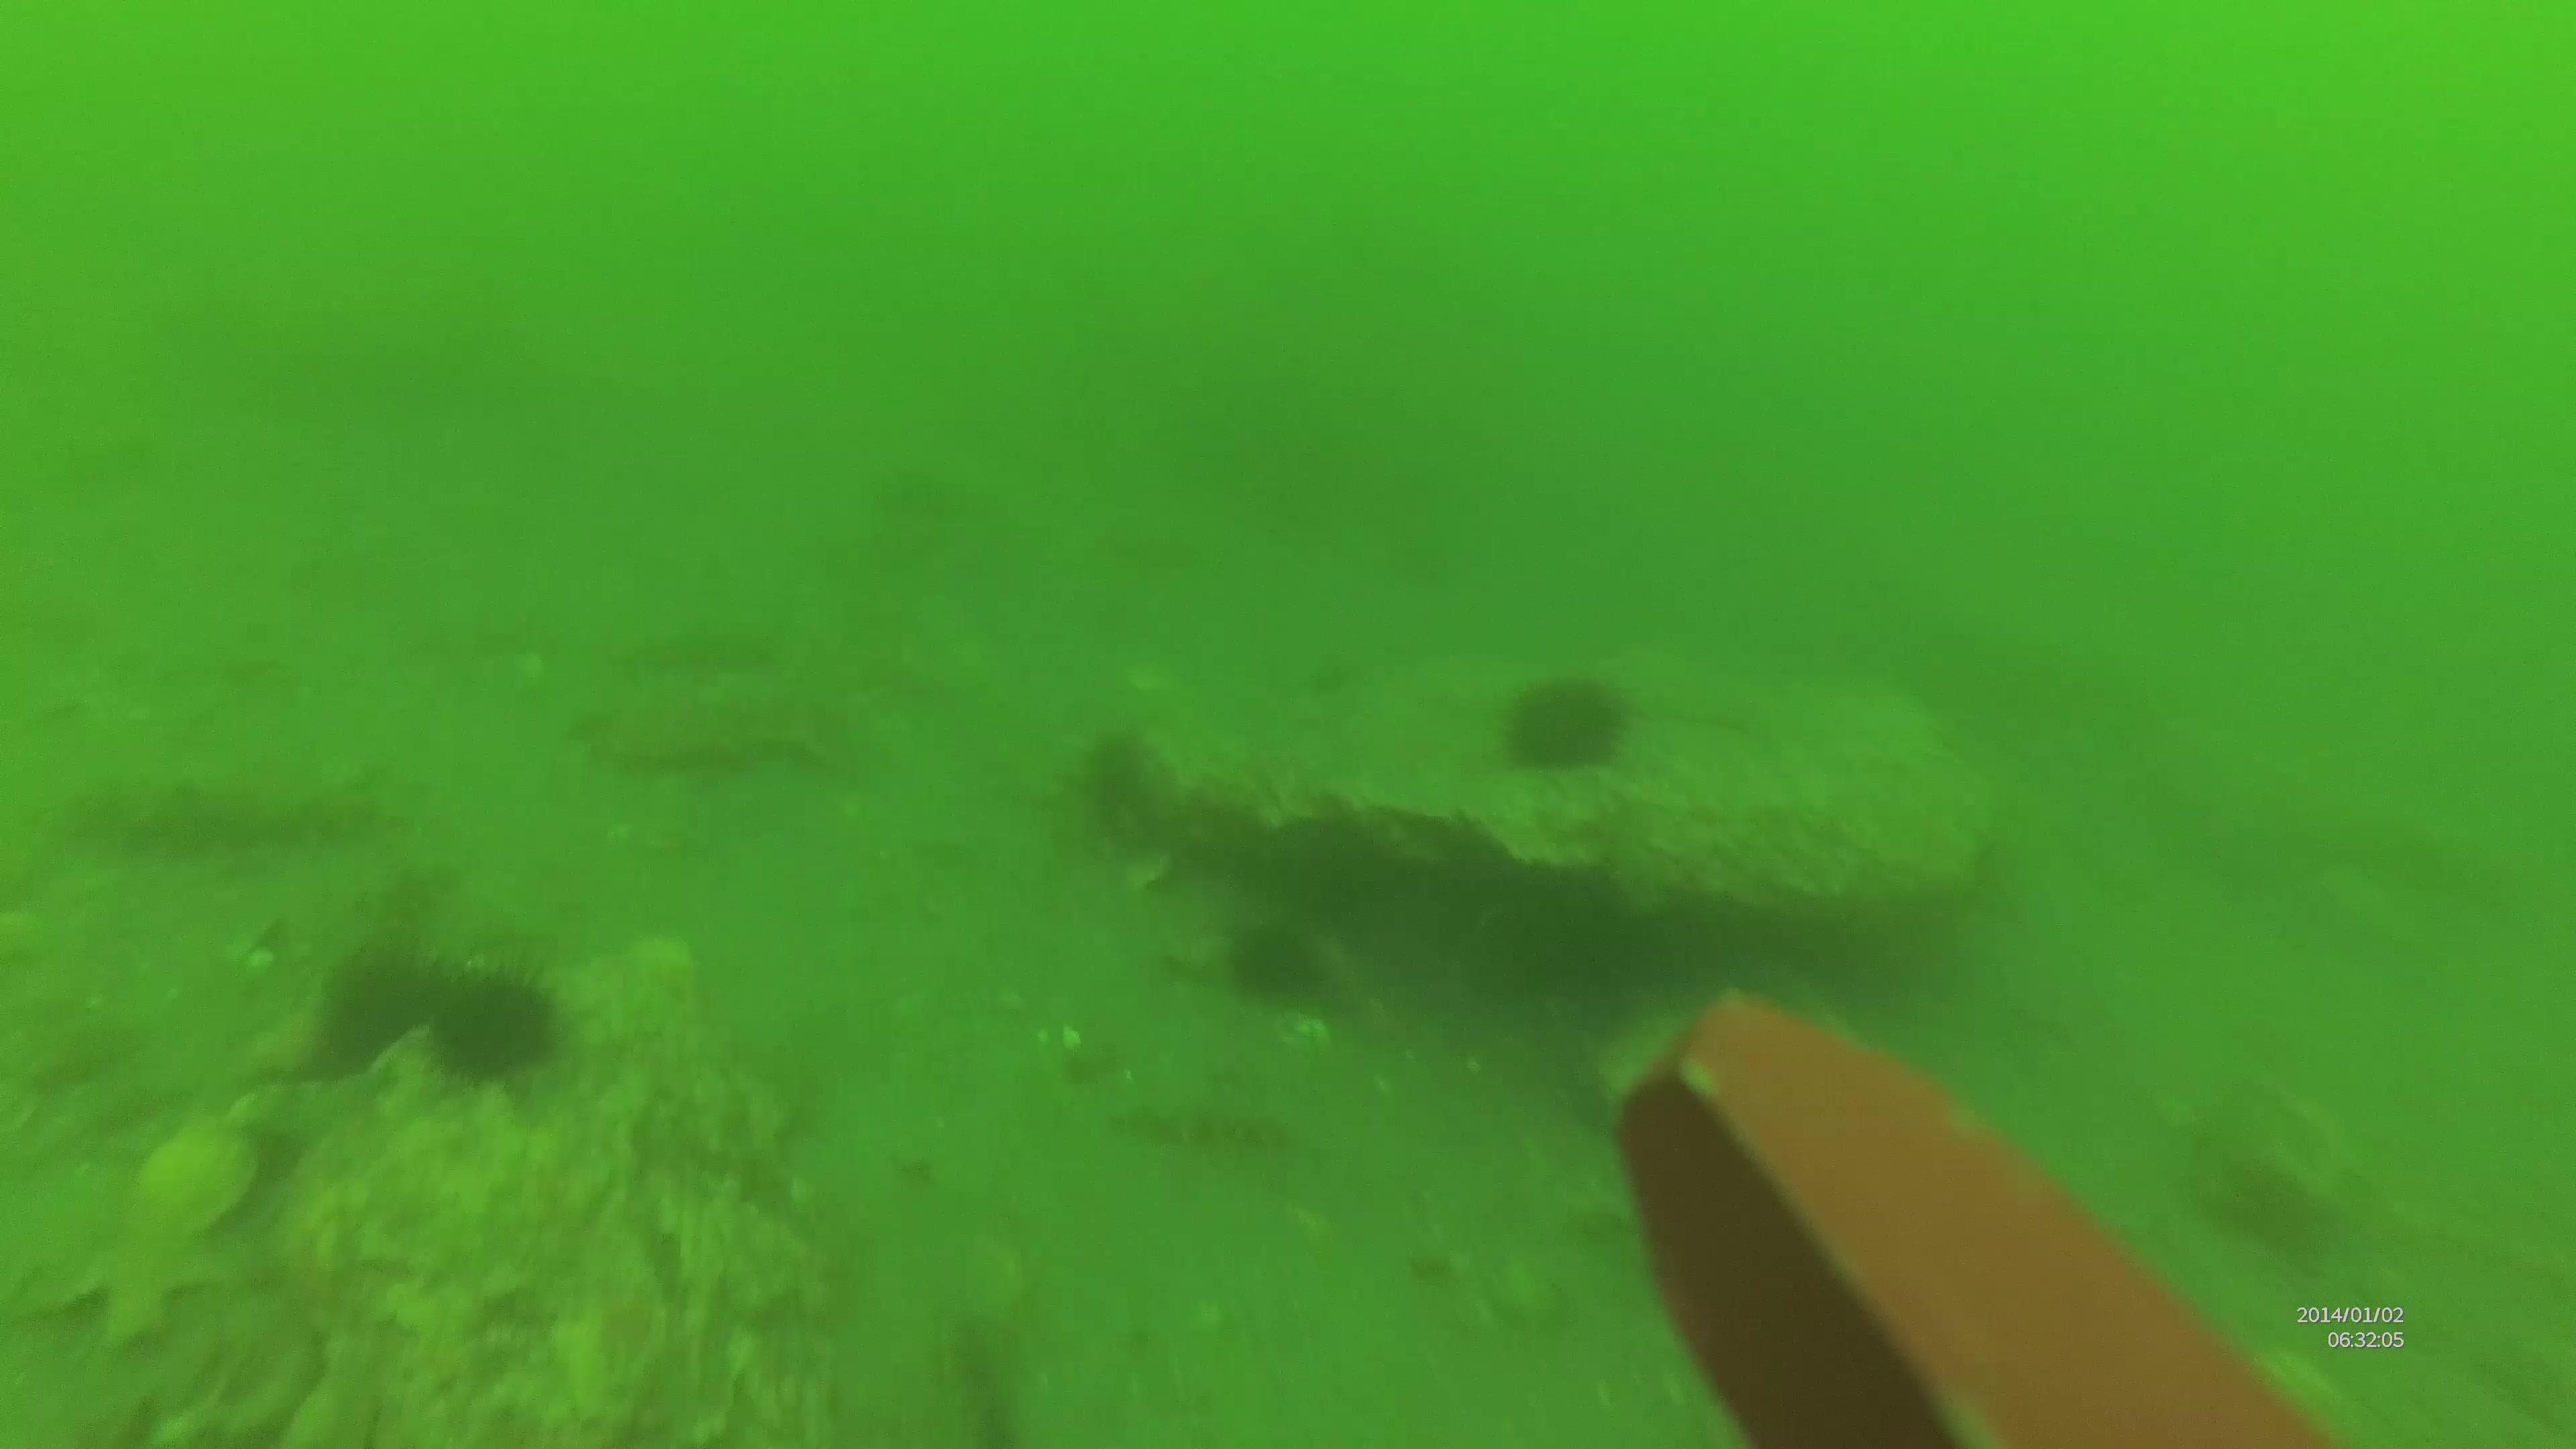echinus: (318, 943, 435, 1072), (439, 966, 566, 1081), (1500, 667, 1638, 771), (1230, 918, 1336, 1001), (1081, 720, 1155, 805)
holothurian: (50, 757, 389, 862), (1113, 1093, 1307, 1162)
scallop: (138, 1125, 262, 1244)
